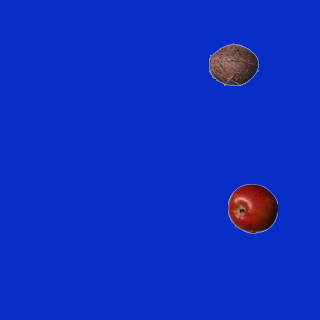Apple Braeburn: (227, 183, 277, 233)
Cocos: (208, 39, 258, 89)
